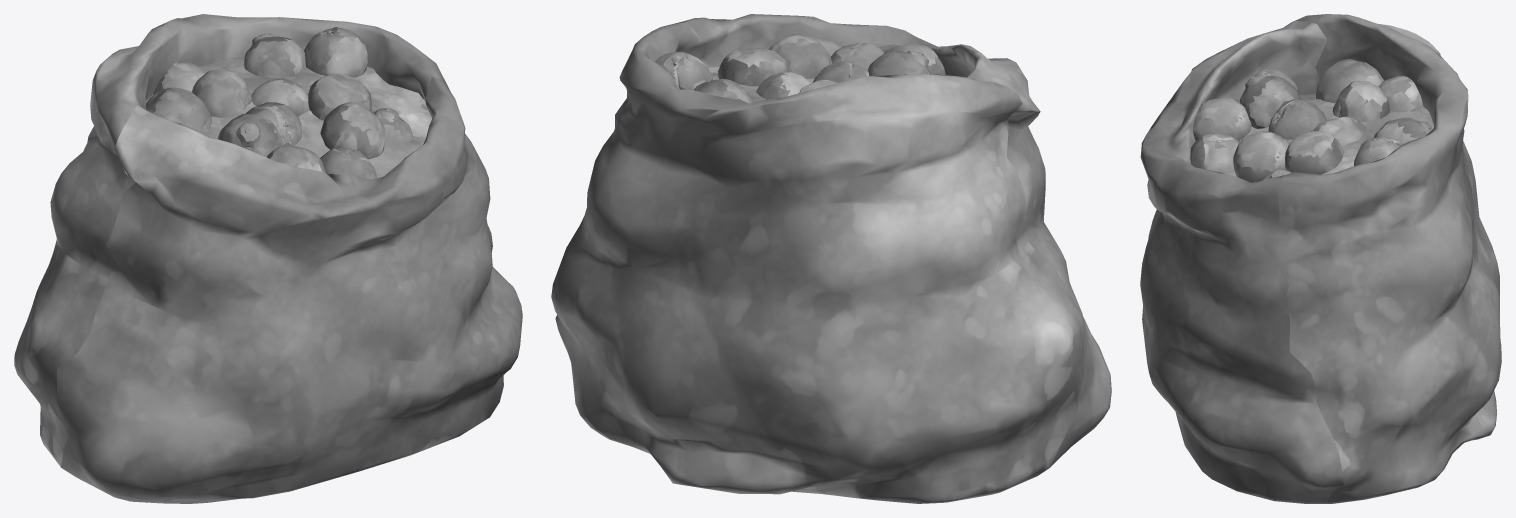
File: SM_FoodSac_01e.fbx
3 views of the same model, side by side, from view 1: azimuth 30°, elevation 25°; view 2: azimuth 150°, elevation 25°; view 3: azimuth 270°, elevation 25° (orthographic). The views are drawn at different scales.
Visible parts, largest first — view 1: SM_FoodSac_01e_LOD0; view 2: SM_FoodSac_01e_LOD0; view 3: SM_FoodSac_01e_LOD0.
Part boxes in pixels (x1,y1,x2,y2): SM_FoodSac_01e_LOD0: (14, 14, 522, 503); SM_FoodSac_01e_LOD0: (551, 14, 1111, 503); SM_FoodSac_01e_LOD0: (1140, 14, 1501, 503).
Size of the model in its own units: 91.93 by 65.23 by 70.02.
